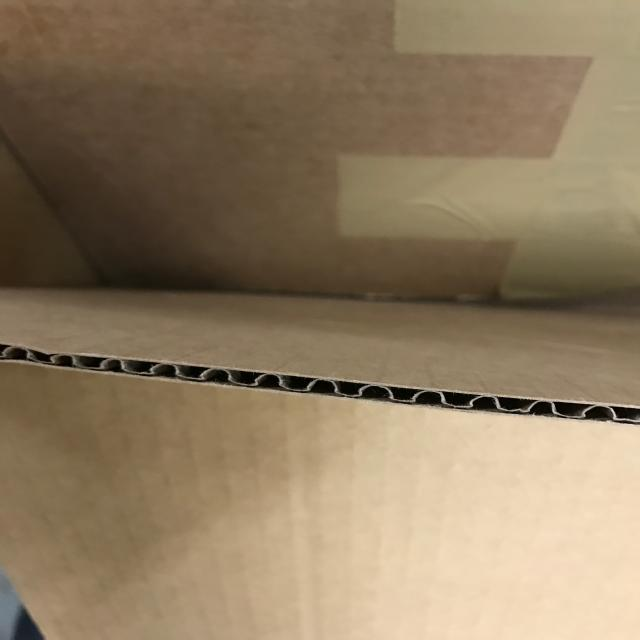Cardboard: (5, 0, 640, 637)
